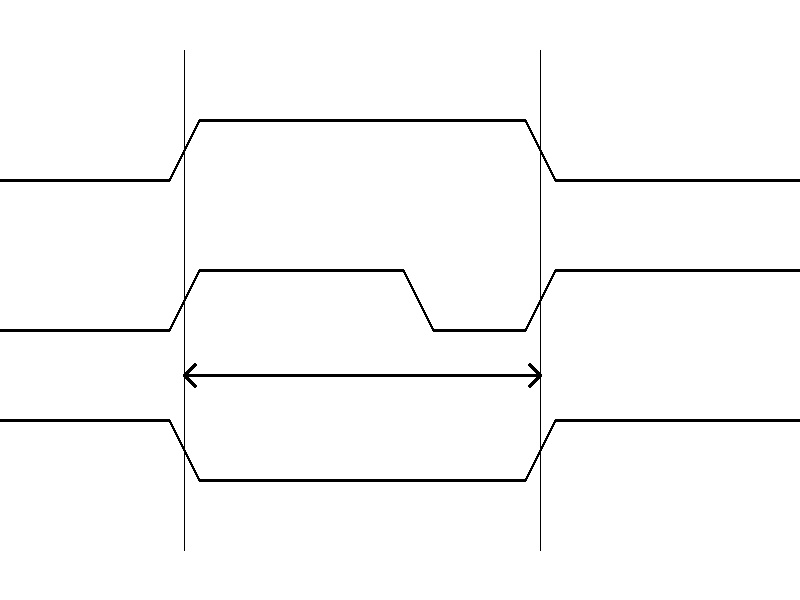double_arrow: (184, 360, 540, 390)
